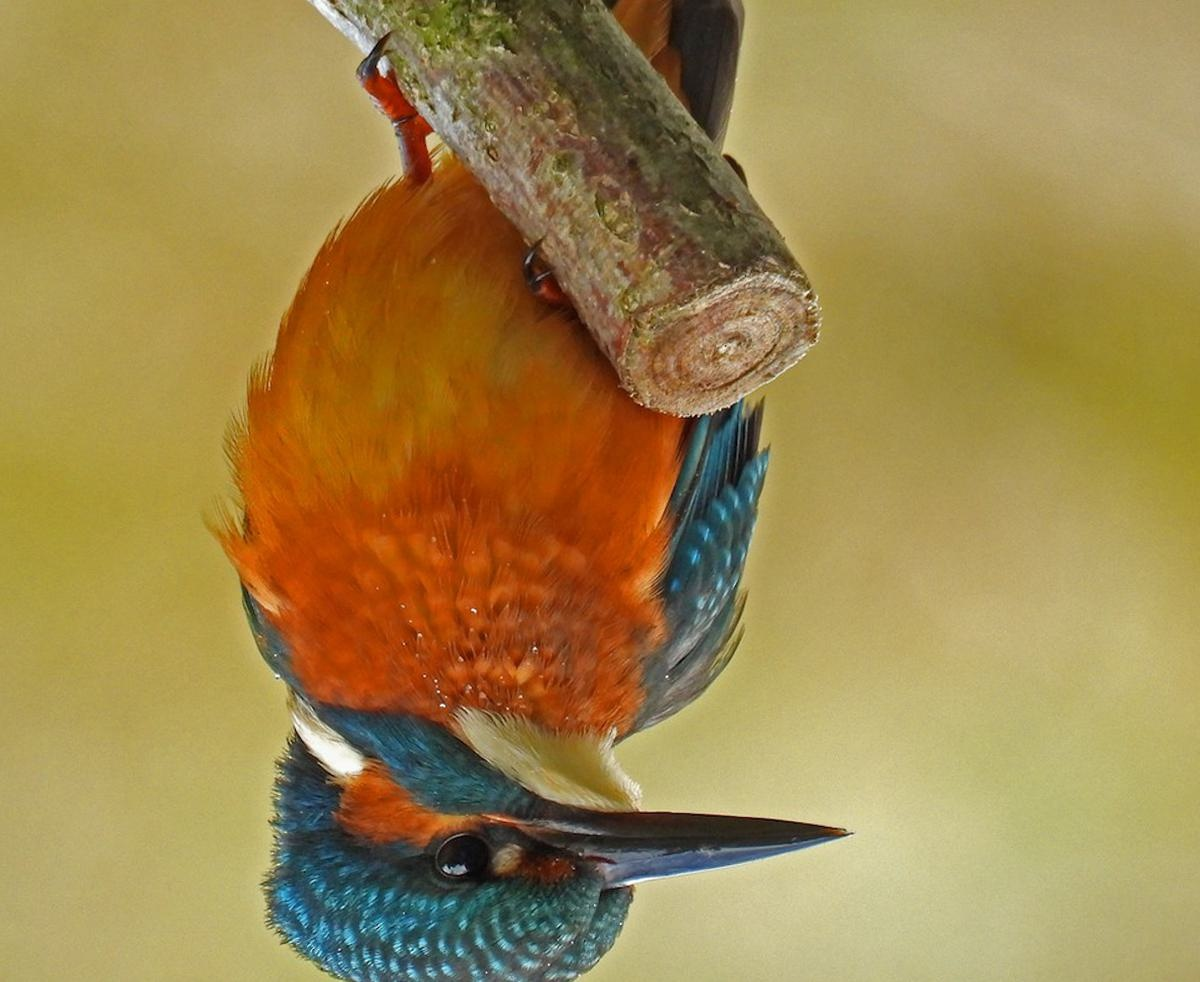kingfisher: (236, 1, 800, 976)
